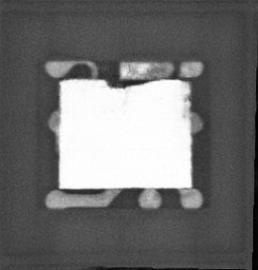DIE_BROKEN: (102, 77, 152, 90)
